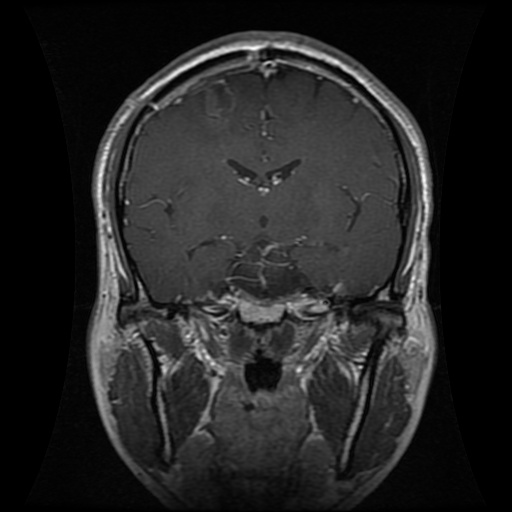glioma: (193, 75, 240, 124)
